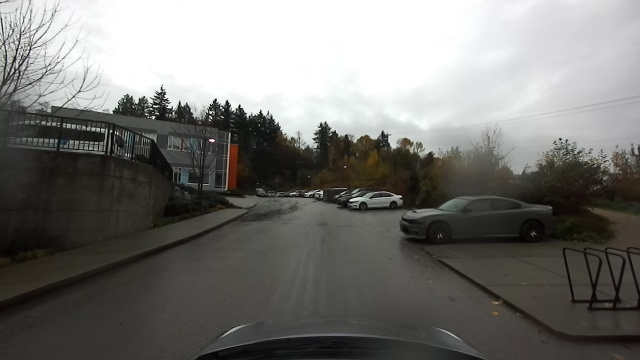car: (398, 194, 556, 246), (346, 190, 402, 211)
